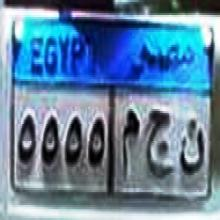5: (15, 105, 36, 170), (84, 112, 107, 170), (40, 109, 61, 171), (62, 109, 83, 170)
jeem: (146, 105, 174, 187)
meem: (118, 104, 141, 184)
noon: (178, 106, 206, 181)
